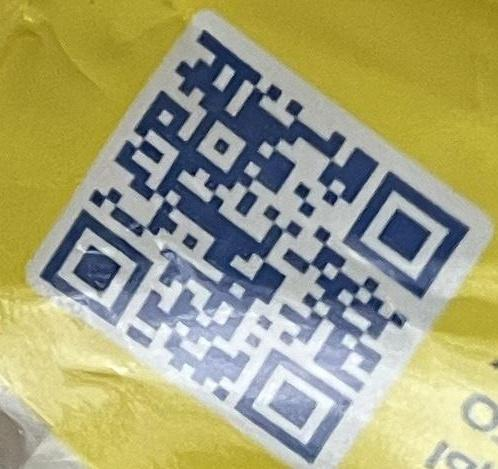qrcode: (40, 29, 470, 465)
